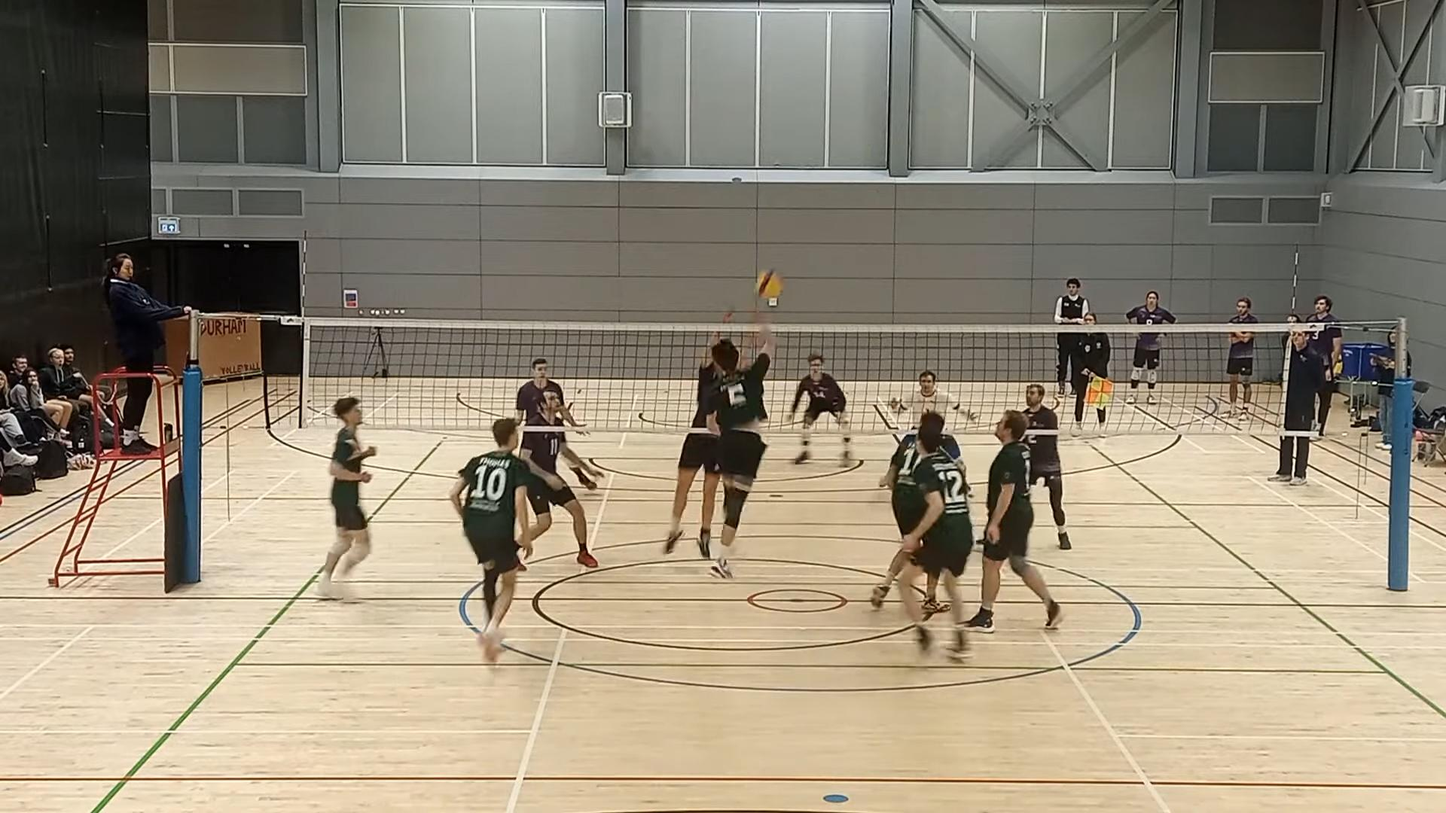Attack: (706, 308, 781, 589)
Block: (664, 303, 761, 562)
Player: (967, 410, 1061, 632), (448, 419, 532, 662), (900, 413, 973, 659), (521, 392, 599, 567), (318, 397, 376, 598), (1024, 384, 1071, 550), (789, 353, 851, 465), (889, 370, 974, 446), (516, 358, 584, 429), (882, 432, 926, 535)
ball: (756, 270, 782, 298)
